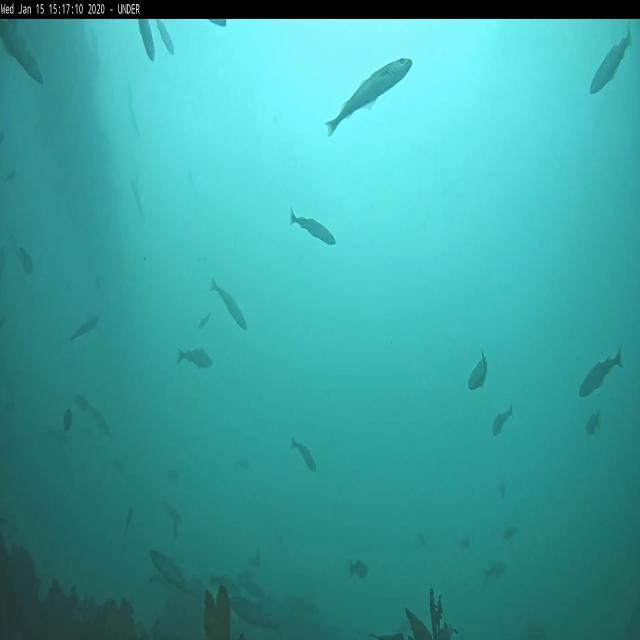fish: (326, 56, 412, 134), (1, 22, 45, 85), (590, 27, 632, 90), (150, 552, 200, 598), (578, 348, 623, 396), (211, 277, 246, 329), (227, 598, 280, 630), (293, 207, 334, 246), (291, 437, 317, 473), (209, 574, 244, 599), (468, 350, 488, 390), (177, 348, 213, 370), (138, 20, 155, 62), (492, 406, 514, 434), (158, 20, 175, 54), (131, 180, 144, 219), (72, 317, 96, 338), (584, 410, 601, 436), (351, 558, 368, 578), (486, 564, 506, 579), (198, 311, 210, 327)
